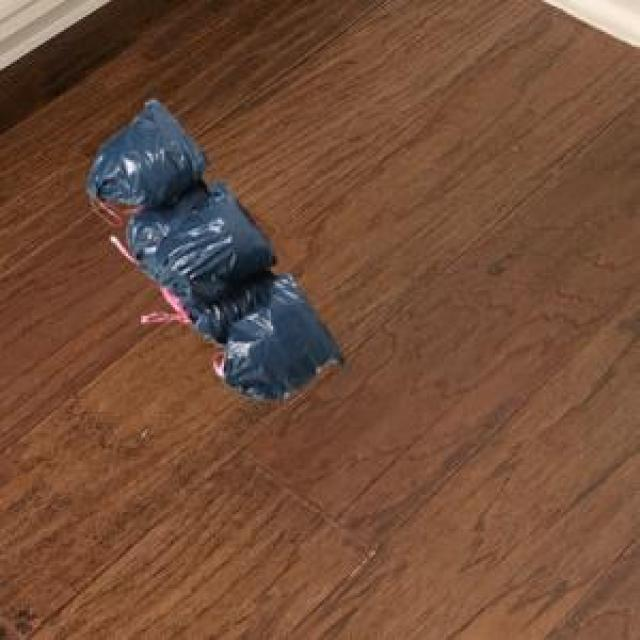miscellaneous trash: (83, 94, 344, 397)
